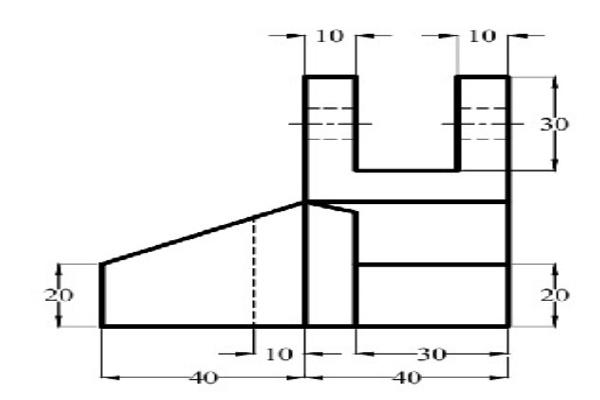dimensions: (387, 362, 428, 389), (412, 342, 453, 366), (316, 18, 346, 49), (183, 366, 226, 387), (35, 285, 79, 304), (466, 24, 500, 47), (262, 343, 298, 364), (537, 285, 577, 303), (537, 114, 571, 134)
